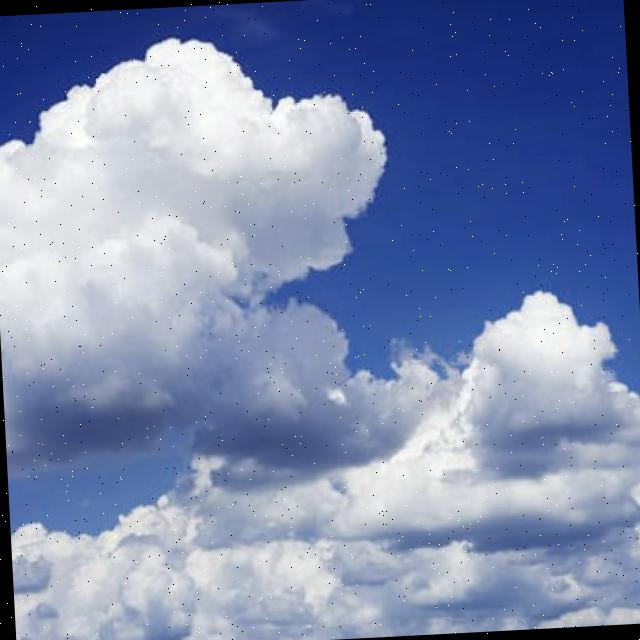Cu: (1, 22, 640, 640)
